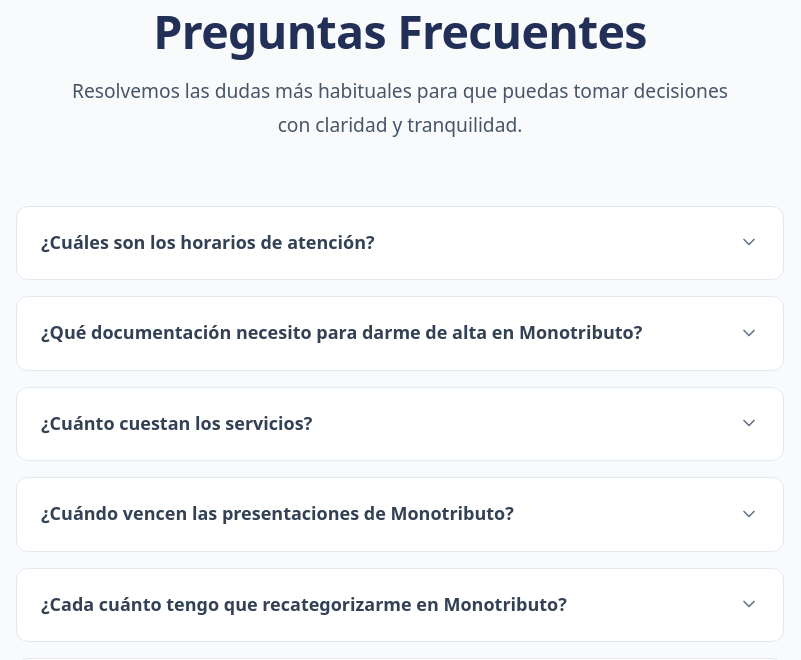
Test case: Componente FAQ › solo permite un ítem abierto a la vez (comportamiento acordeón)
This screenshot has width=801, height=660.
Click the button "¿Cuáles son los horarios de atención?".
click(208, 242)  # box x1=17 y1=207 x2=783 y2=278
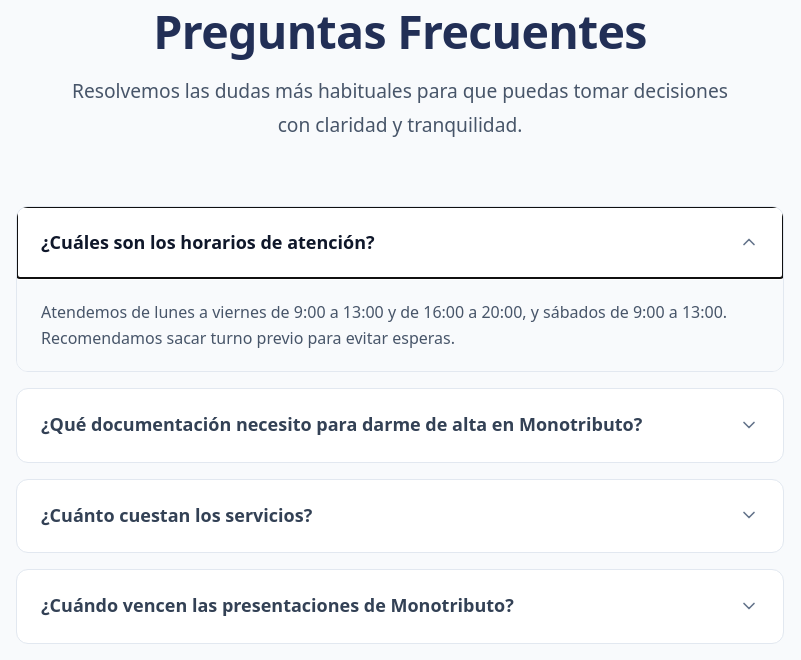
Expected: the button "¿Cuáles son los horarios de atención?" is expanded, x1=17 y1=207 x2=783 y2=278
Click the button "¿Qué documentación necesito para darme de alta en Monotributo?".
click(400, 425)  # box x1=17 y1=389 x2=783 y2=461
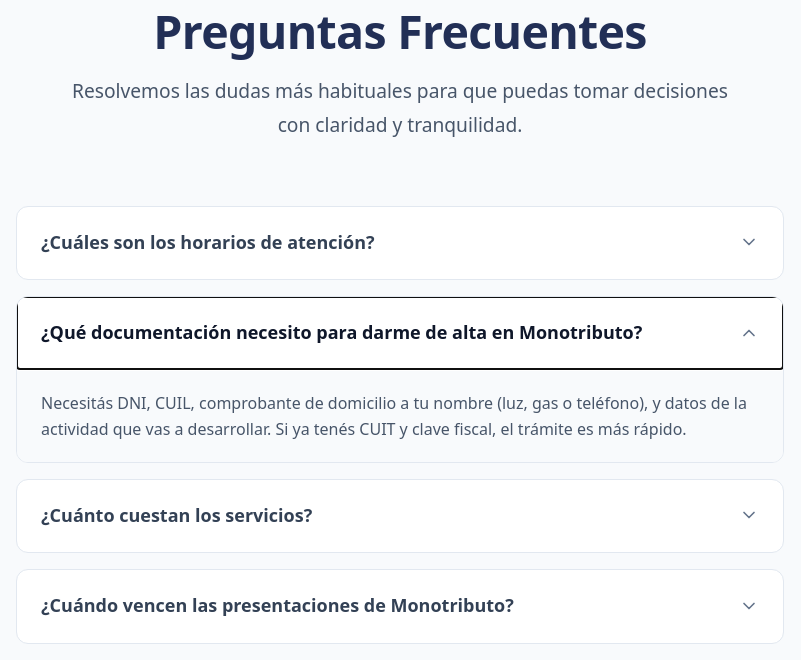
Expected: the button "¿Cuáles son los horarios de atención?" is collapsed, x1=17 y1=207 x2=783 y2=278
Expected: the button "¿Qué documentación necesito para darme de alta en Monotributo?" is expanded, x1=17 y1=297 x2=783 y2=369
